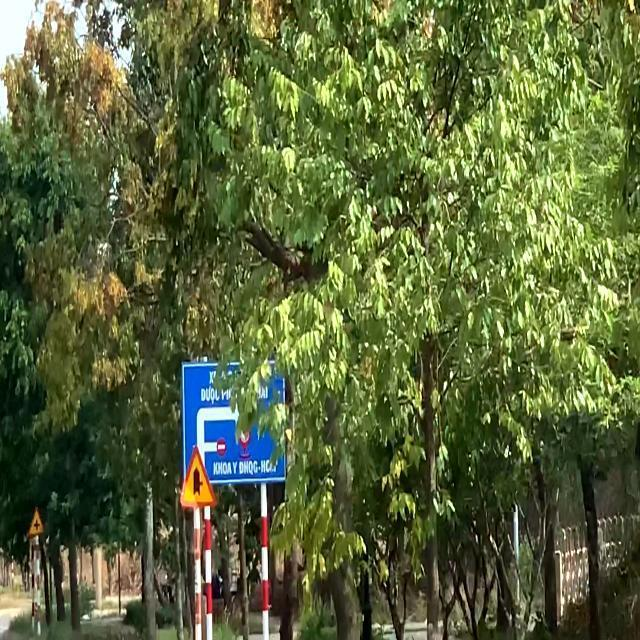205-duong-giao-nhau: (28, 508, 46, 536)
207-giao-nhau-voi-duong-khong-uu-tien: (178, 450, 218, 510)
